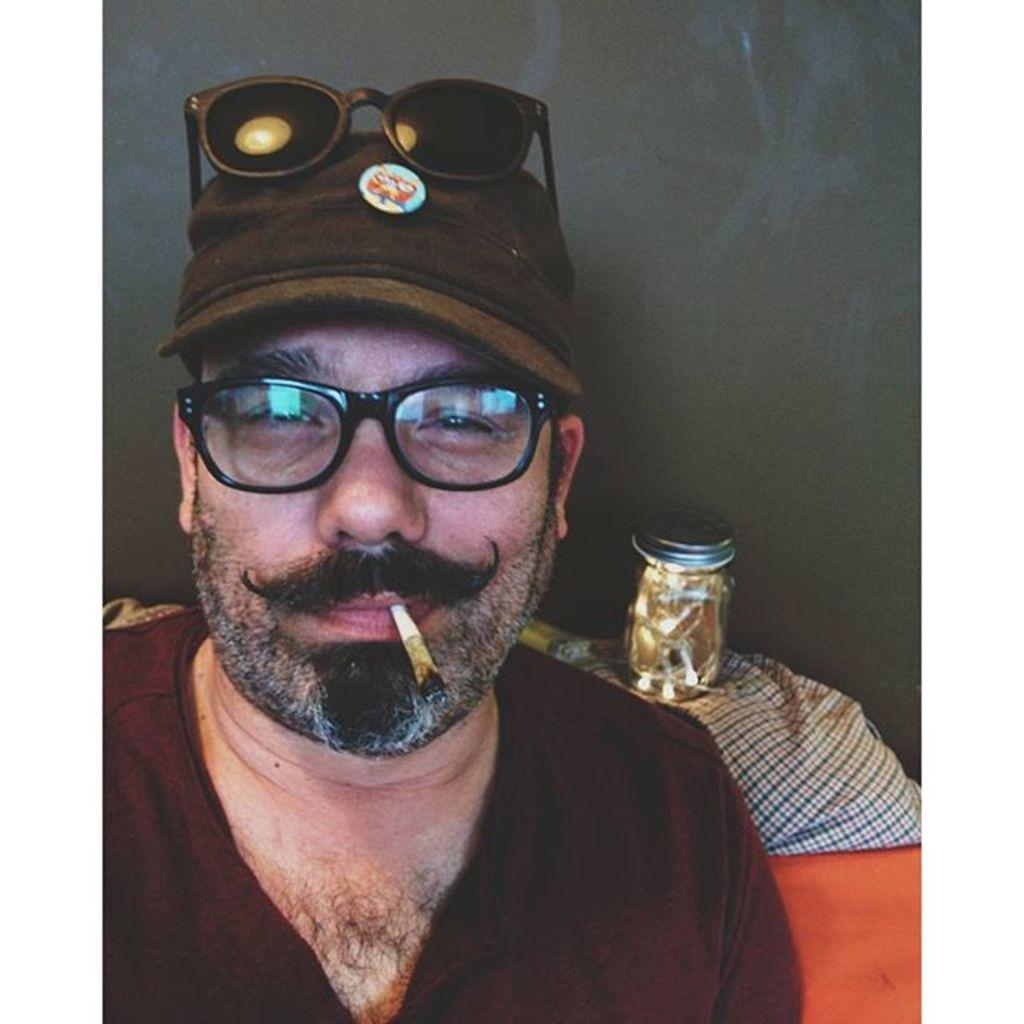Hat: (158, 128, 587, 402)
